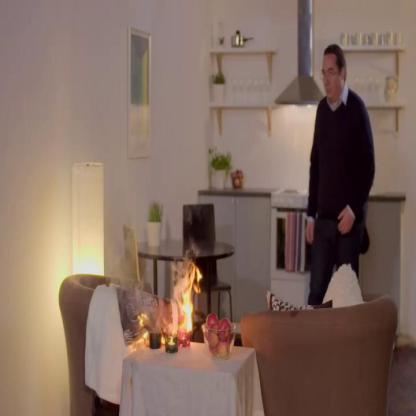fire: (179, 261, 203, 331)
